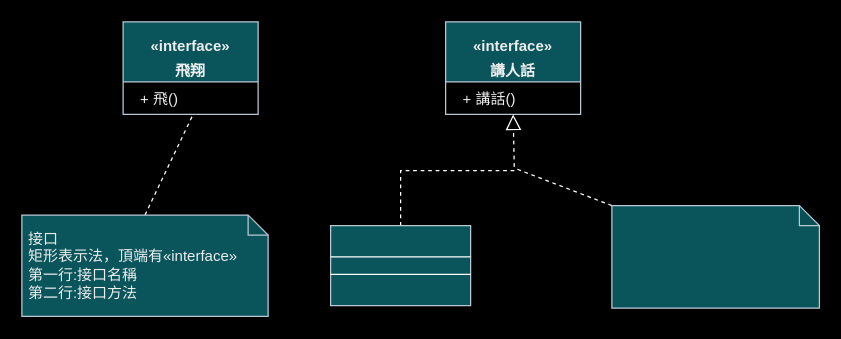
This 841x339 diagram has some shape labels left out. Here are the shapes that lost their labels. From the top down, the box of each, then its label:
(329, 224, 471, 306): 唐老鴨 +講話()
(611, 204, 819, 308): 接口 棒棒糖表示法 圓圈旁為接口名稱 接口方法在實現類中出現
